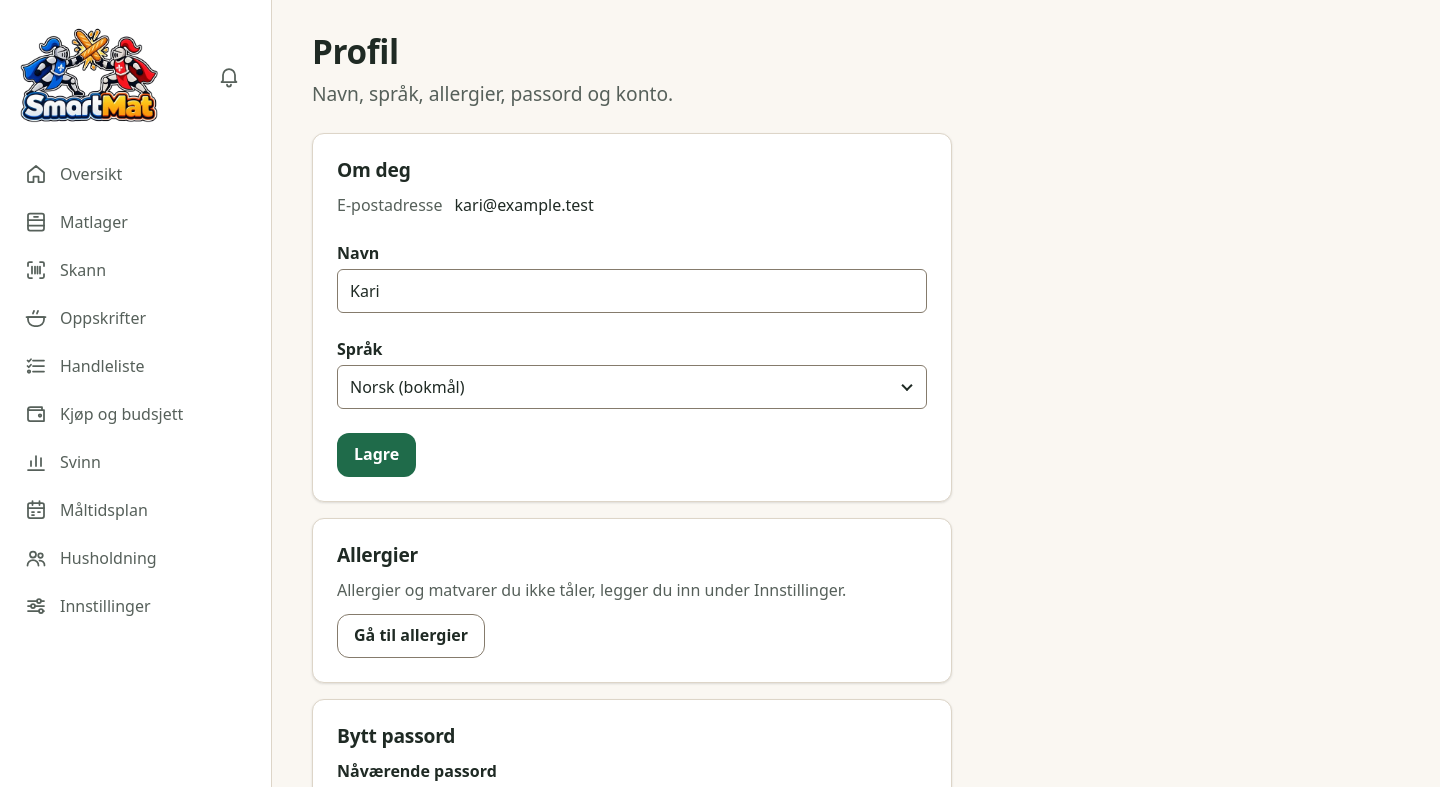
Test: FR-AUTH-004 profile page › saves name and language
Replace the text in the field labelled "Navn" with "Kari N." at [632, 291], box [337,269,927,313]
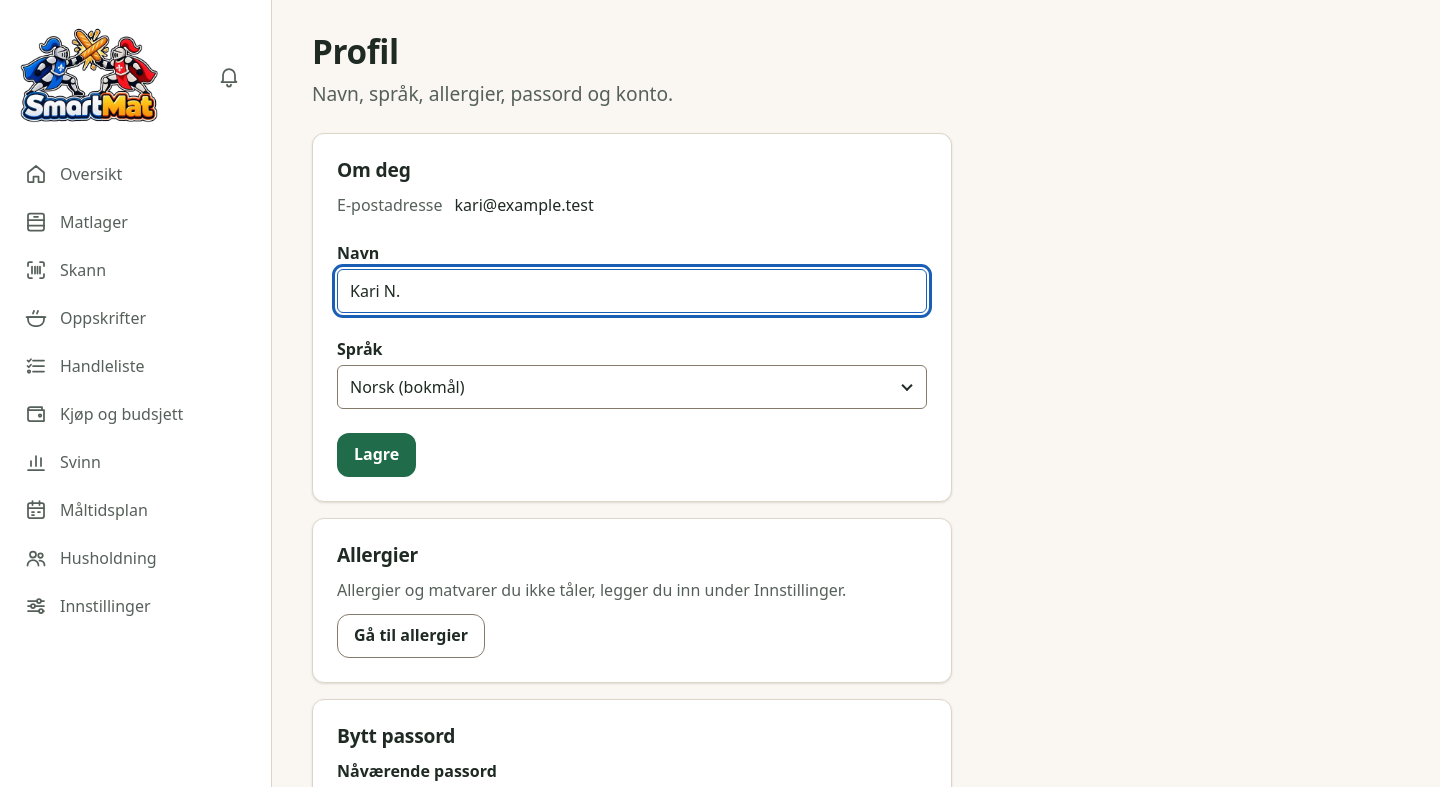
Click the button "Lagre" at [377, 455], box [337,433,416,477]
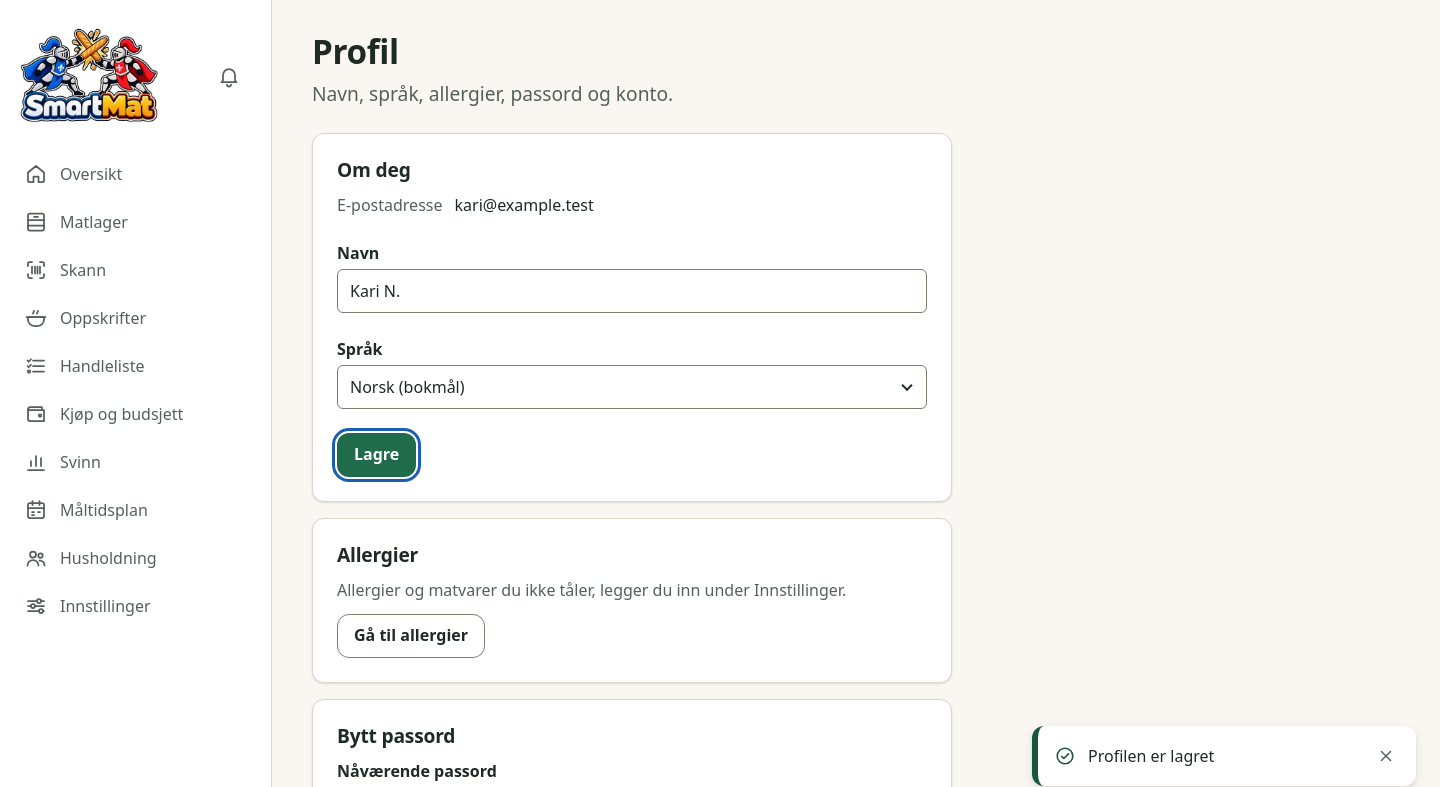
Expected: the text "Profilen er lagret" is shown, [1087,744,1214,767]
